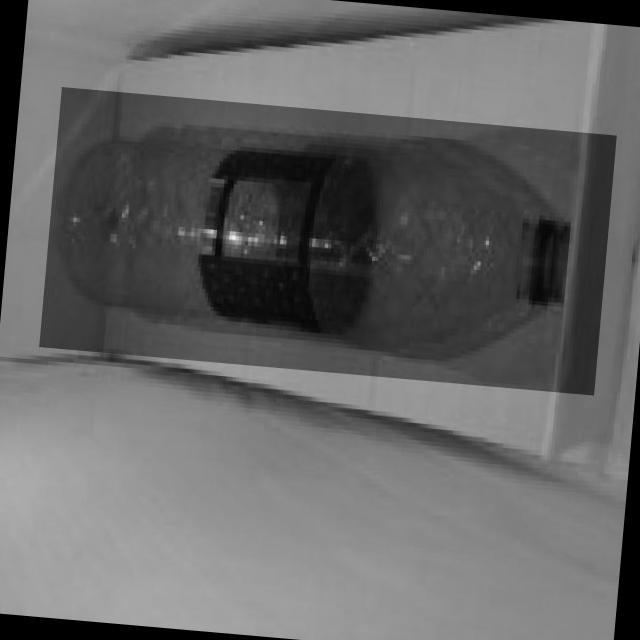good: (38, 87, 616, 396)
